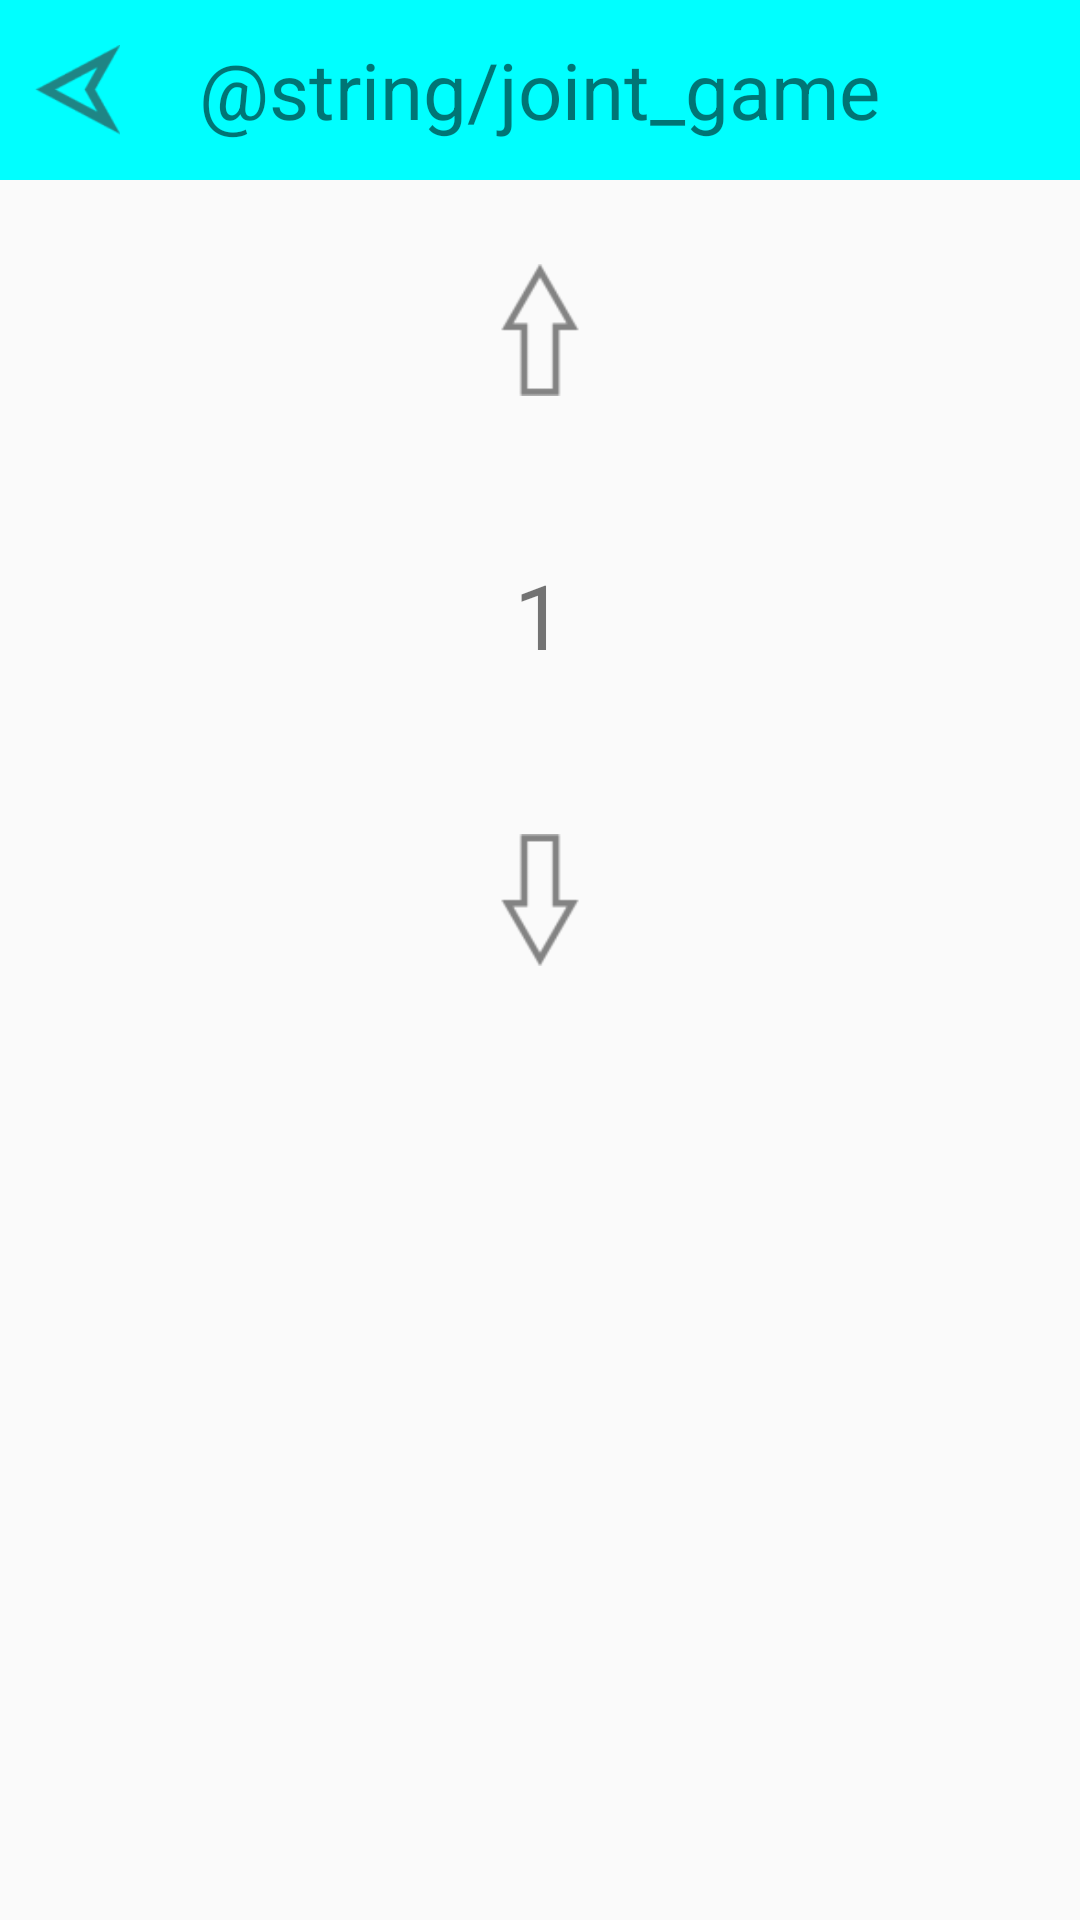

Where icons sit on this 1080w x 1920h app screen, as (x1, y1, x2, y2):
arrow down: (501, 834, 579, 966)
arrow up: (501, 264, 579, 396)
back: (36, 45, 120, 134)
